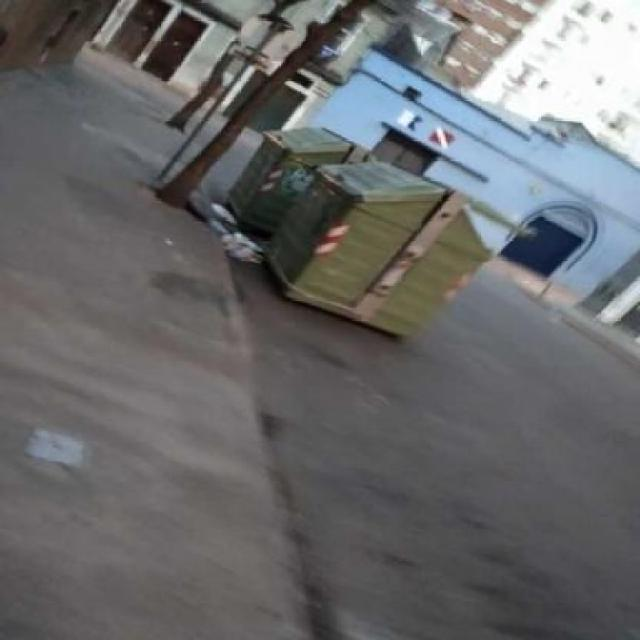garbage: (197, 192, 278, 278), (23, 416, 97, 486)
